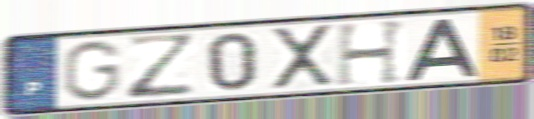0: (203, 31, 262, 93)
A: (403, 17, 482, 83)
G: (59, 38, 126, 103)
H: (333, 17, 411, 89)
X: (267, 22, 337, 93)
Z: (124, 31, 201, 102)
